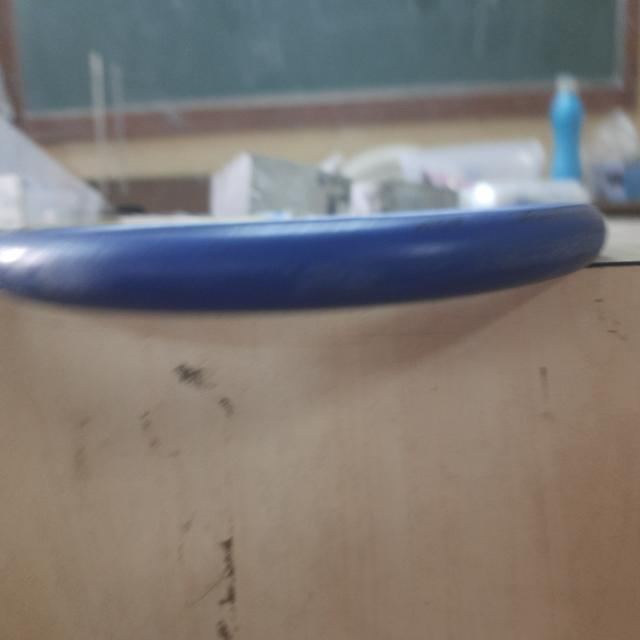daire: (15, 208, 589, 318)
